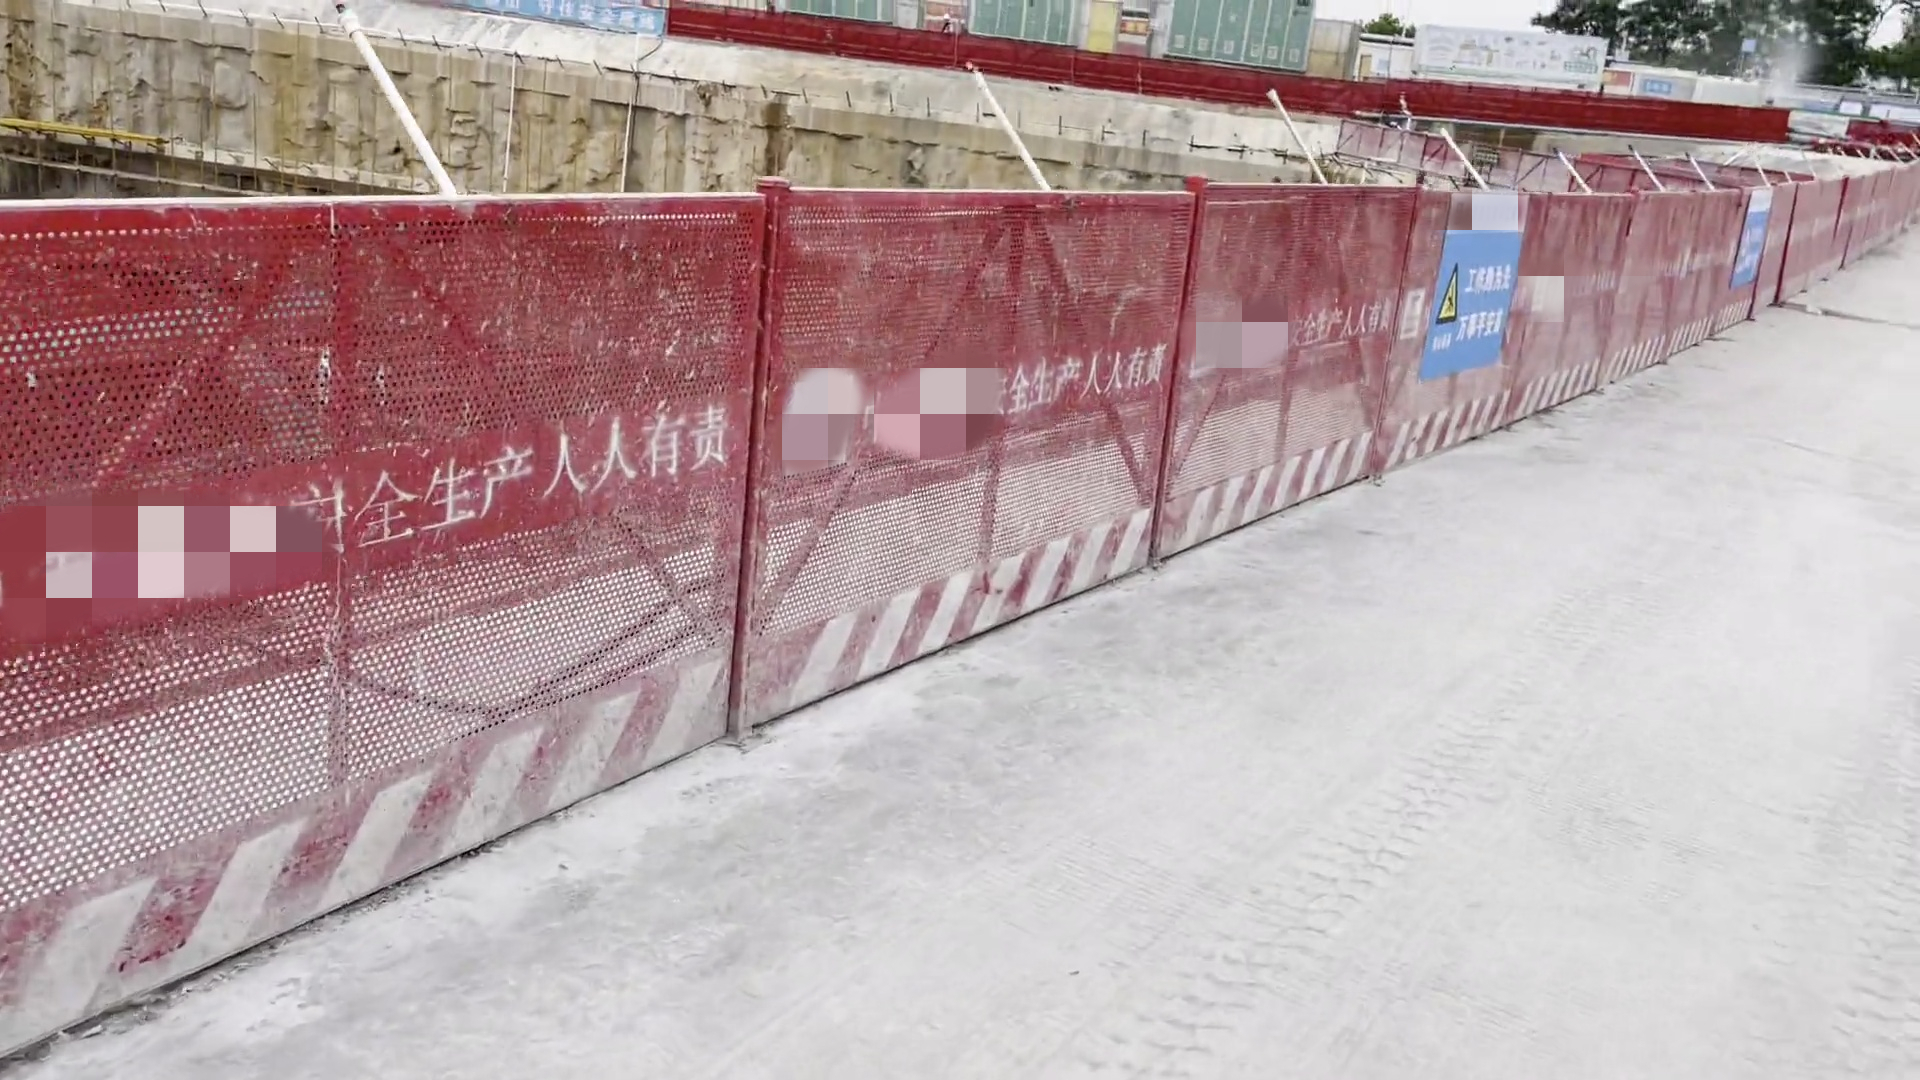fence: (4, 127, 1917, 1060), (469, 1, 1911, 161)
slogan: (345, 404, 746, 550), (998, 343, 1158, 411), (468, 1, 657, 32), (1284, 298, 1387, 345)
